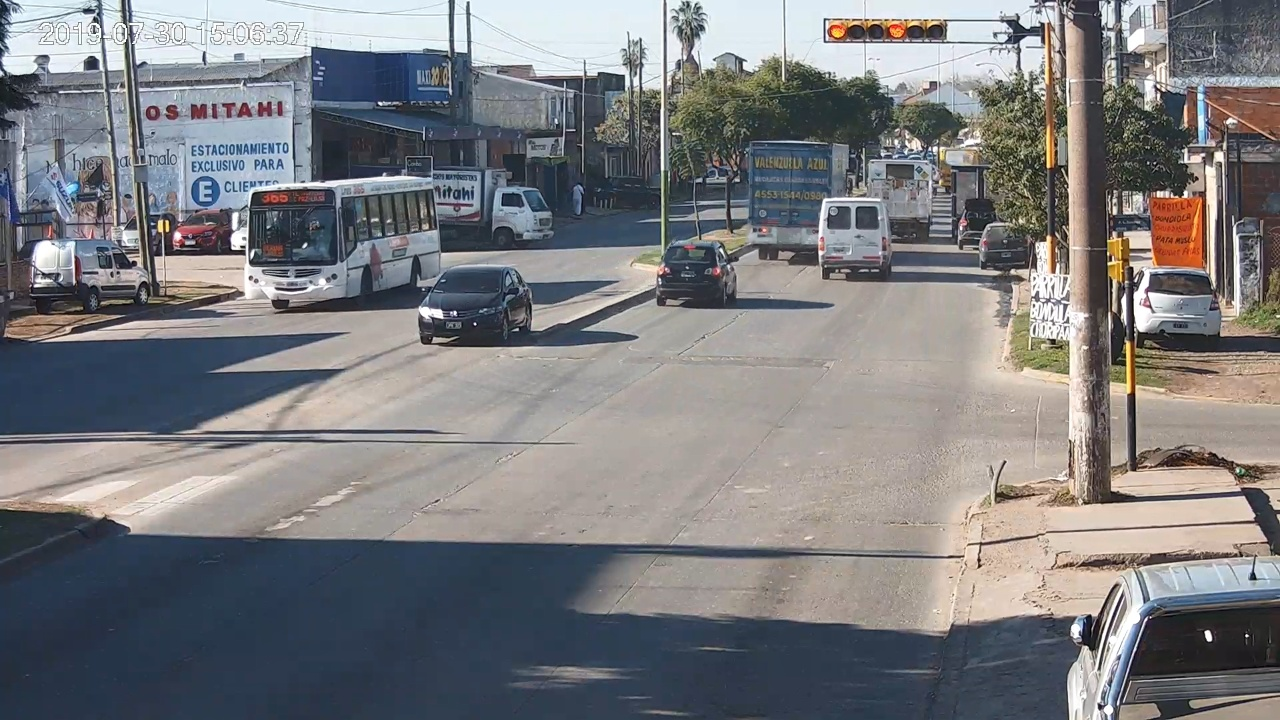car: (818, 198, 893, 279), (656, 240, 739, 305)
front bus: (232, 175, 441, 309)
front car: (418, 265, 533, 342)
traffic light: (827, 18, 947, 42)
